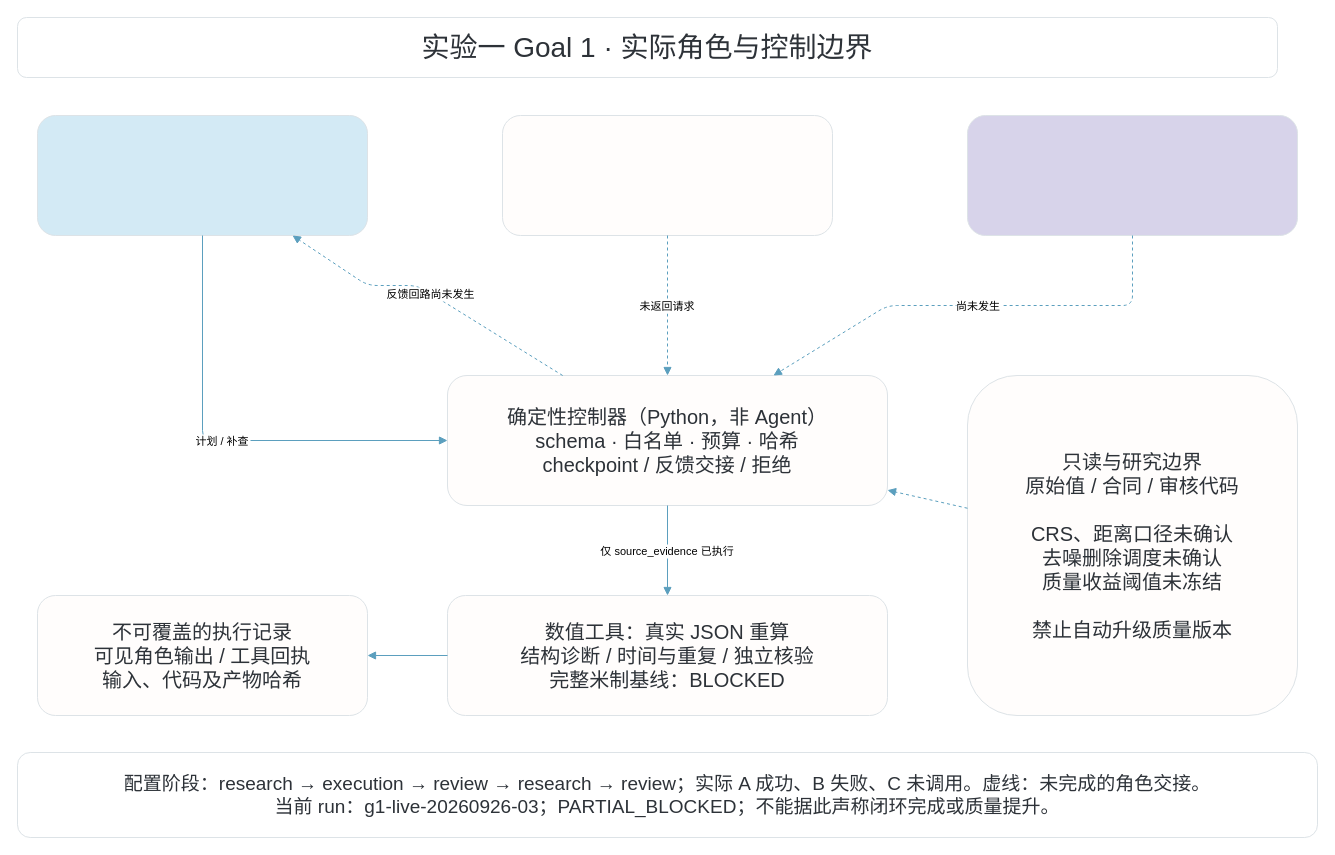
The diagram is 1335 pixels wide and 855 high, and some of its shapes have lost their labels. Each missing label, with the box of its shape:
A 研究诊断 · 实际返回 来源核查计划 独立模型上下文: (36, 114, 368, 236)
B 处理实验 · 调用失败 workspace routing 失败 未执行处理工具: (502, 114, 832, 236)
C 质量核查 · 尚未调用 配置已实现 真实职责验收 BLOCKED: (966, 114, 1298, 236)
